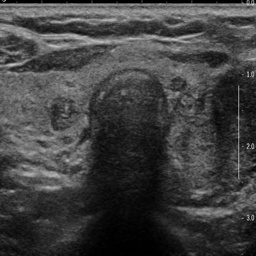mass: (44, 97, 82, 132)
